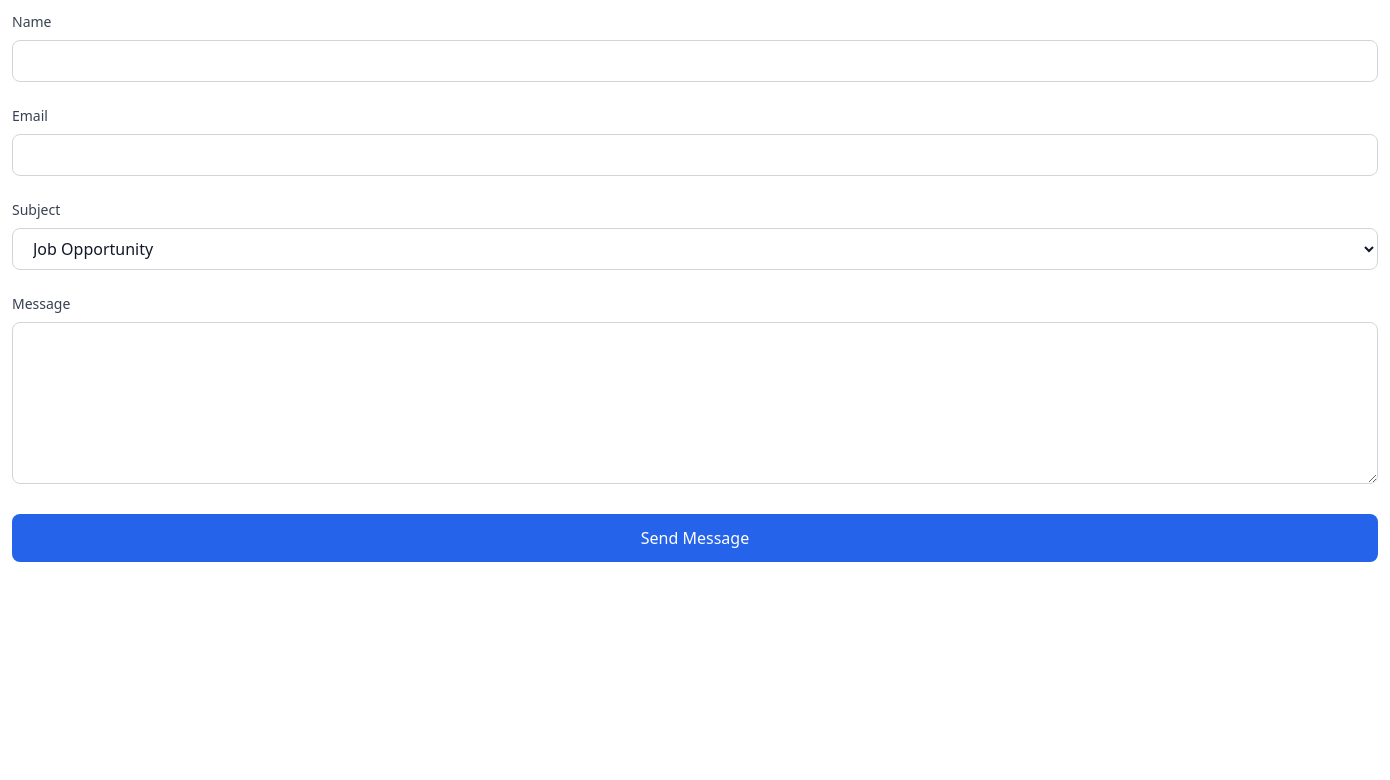
Scenario: ContactForm › should handle submission error
In the field labelled "Name": (695, 61) [12,40,1378,82], type "Test User"
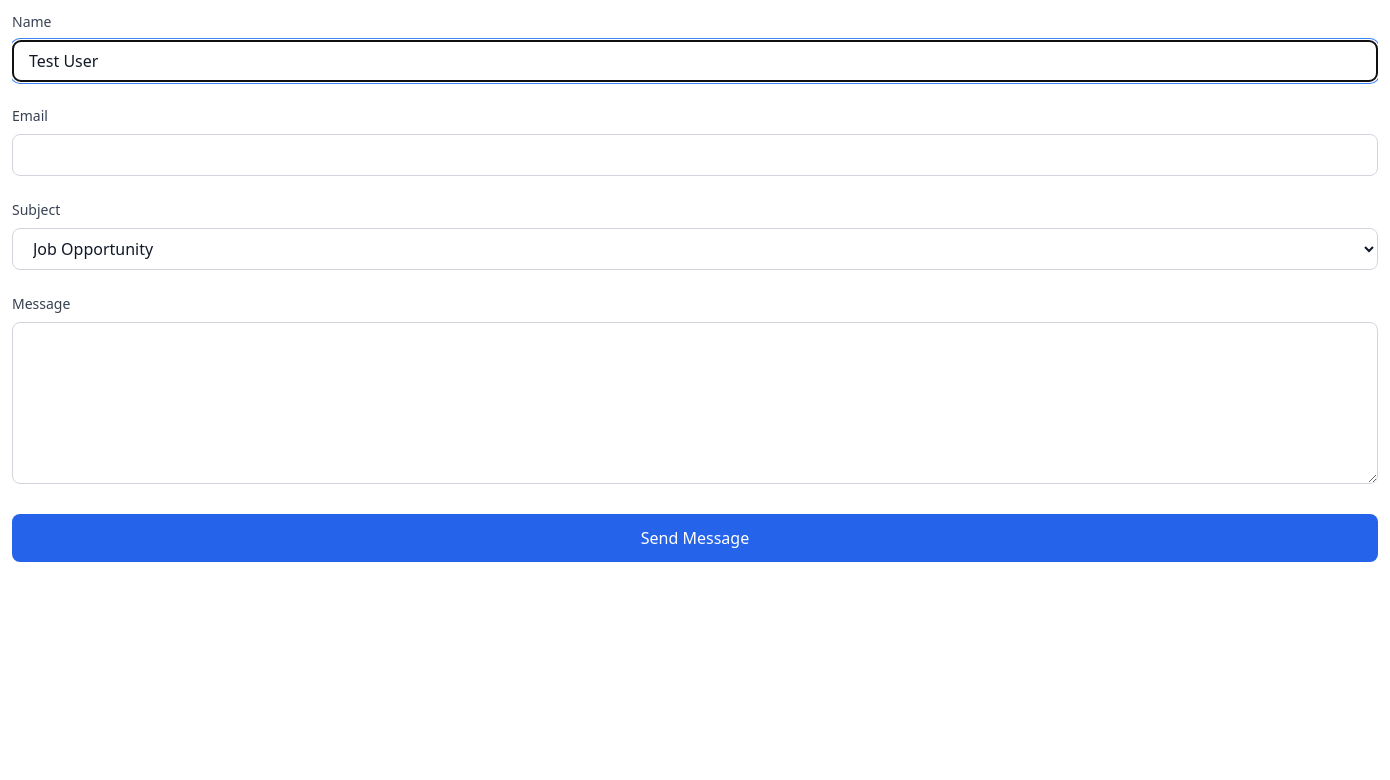
In the field labelled "Email": (695, 155) [12,134,1378,176], type "test@example.com"
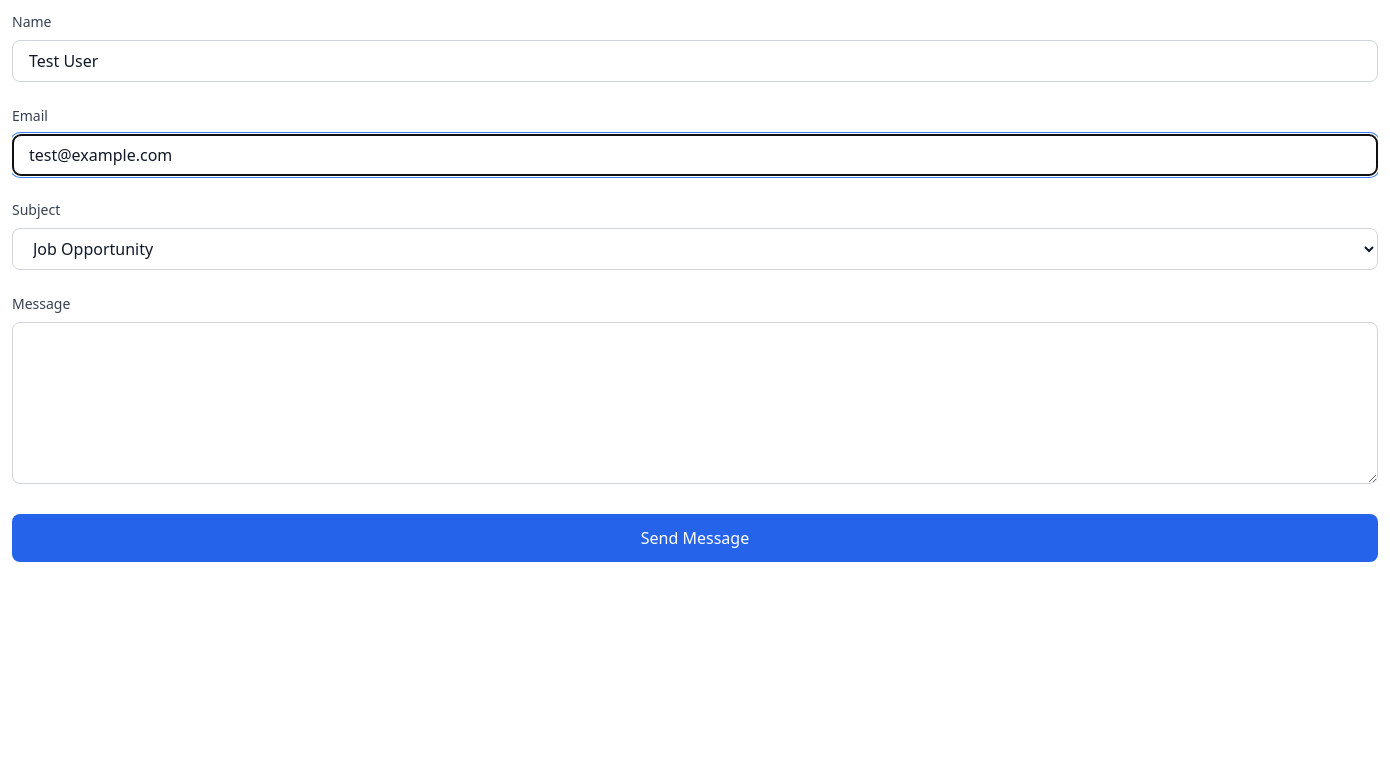
Select "Question" in the dropdown labelled "Subject": (695, 249) [12,228,1378,270]
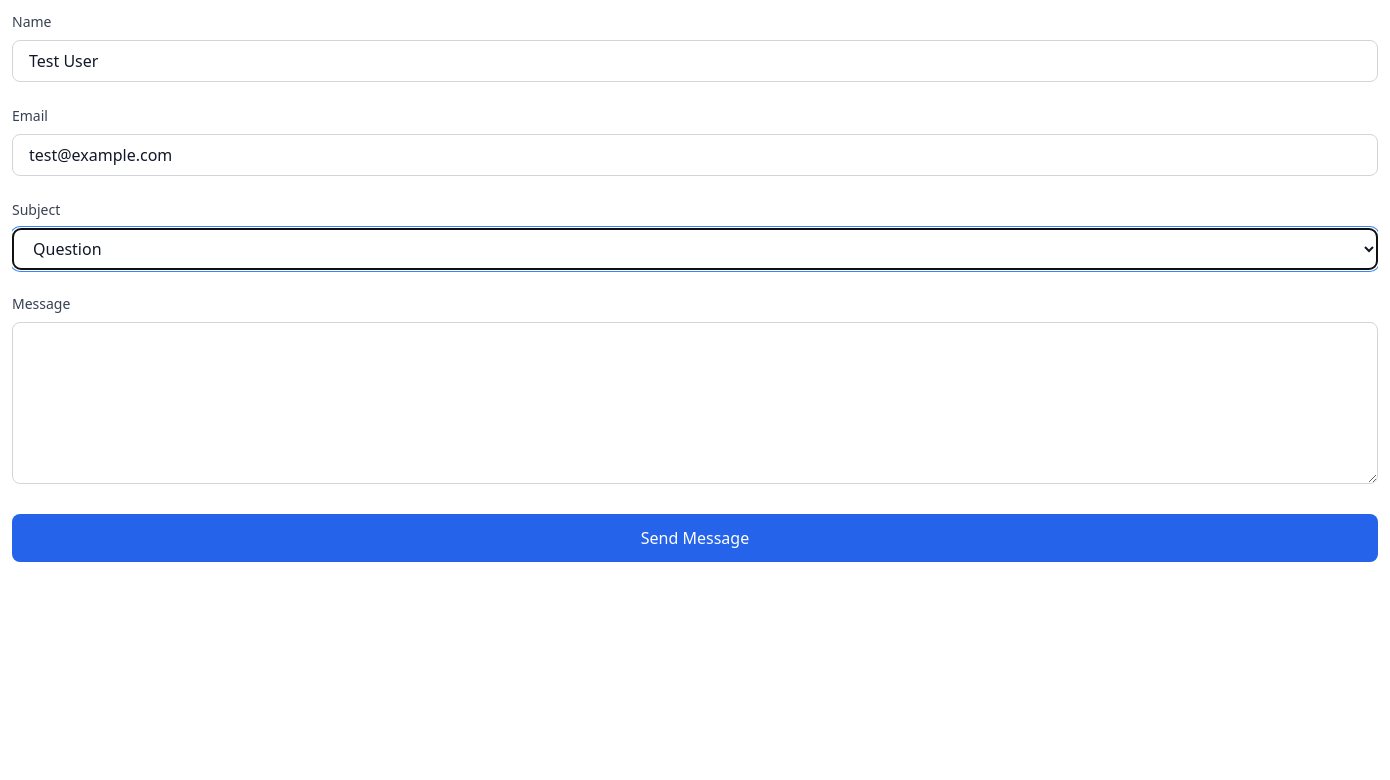
In the text box labelled "Message": (695, 403) [12,322,1378,484], type "This is a test message"
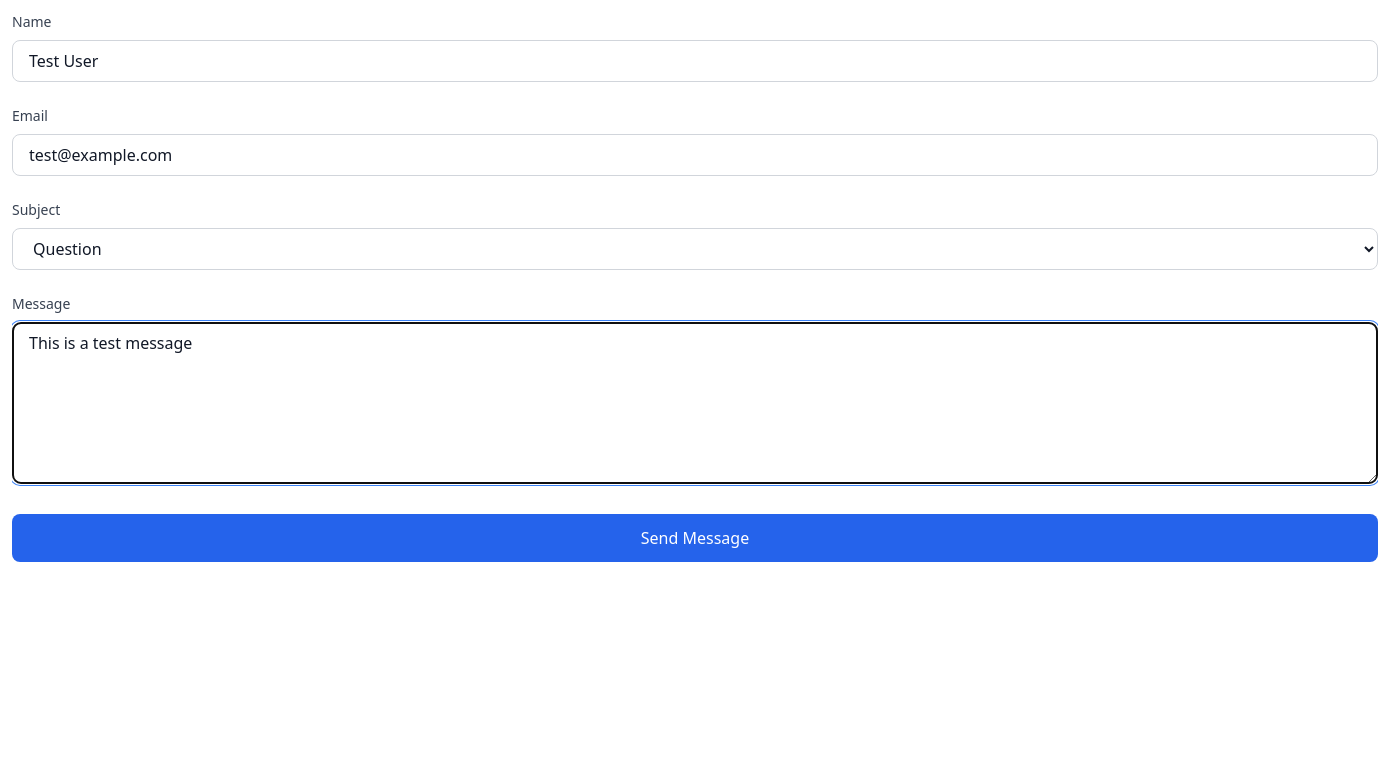
Click the button "Send Message": (695, 538) [12,514,1378,562]
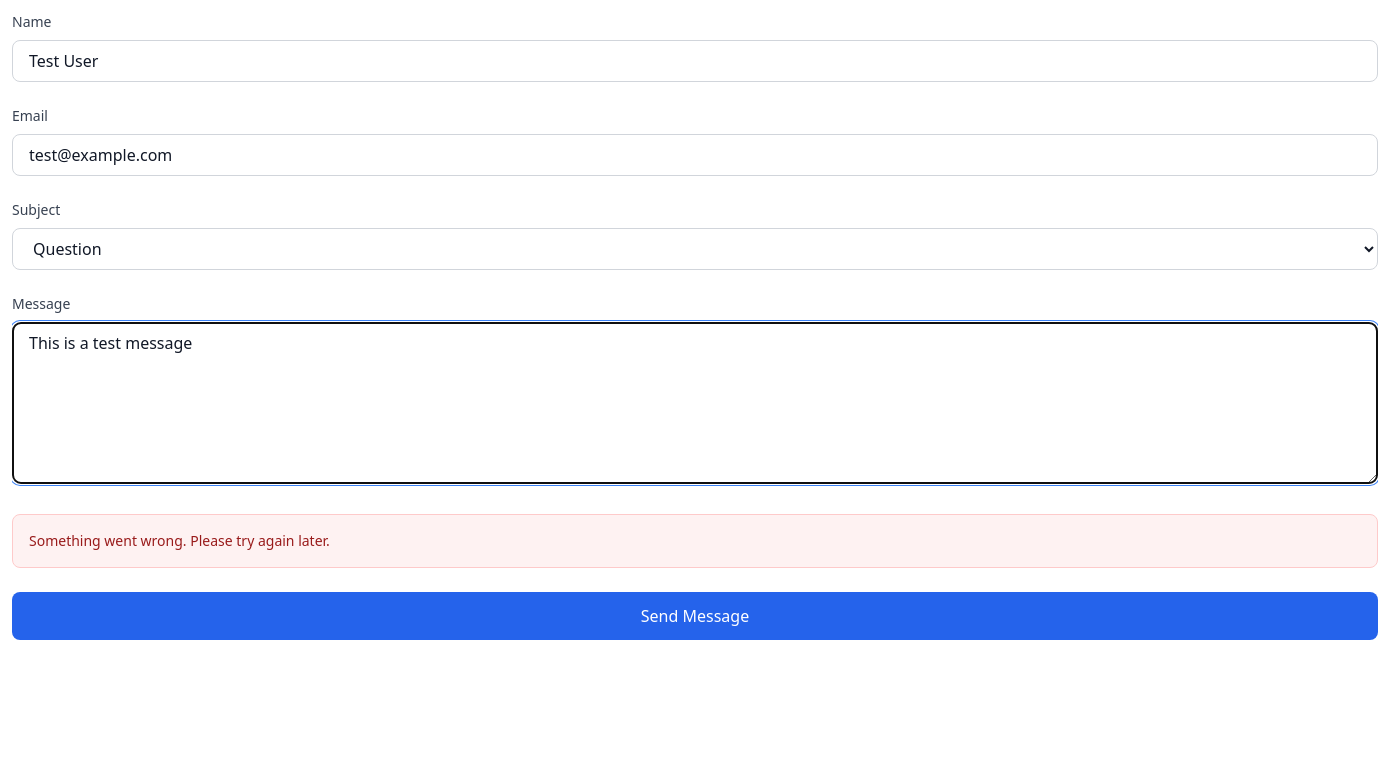
expect the text "Something went wrong. Please try again later." is shown: met, box [29,531,330,550]
